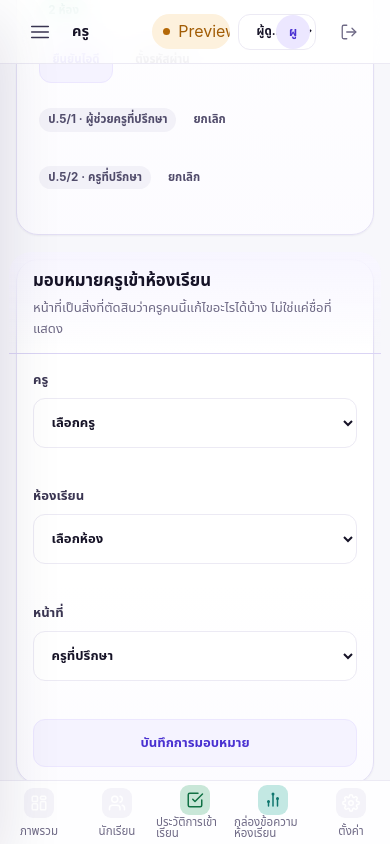
Scenario: assigning a teacher to several subjects at once › shows what the teacher already holds in the room being edited
The width and height of the screenshot is (390, 844).
(page scrolled)
Select "ครูสมฤทัย ปัญญาดี" in the dropdown labelled "ครู" at (195, 423), box left=33, top=398, right=357, bottom=448
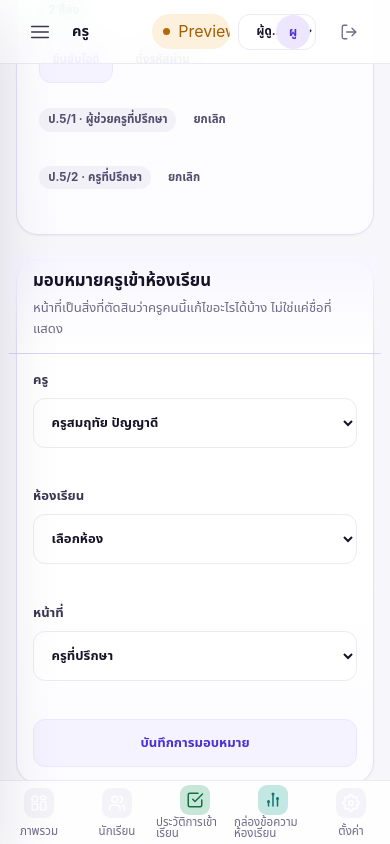
Select "ป.5/1" in the dropdown labelled "ห้องเรียน" at (195, 539), box left=33, top=514, right=357, bottom=564
(page scrolled)
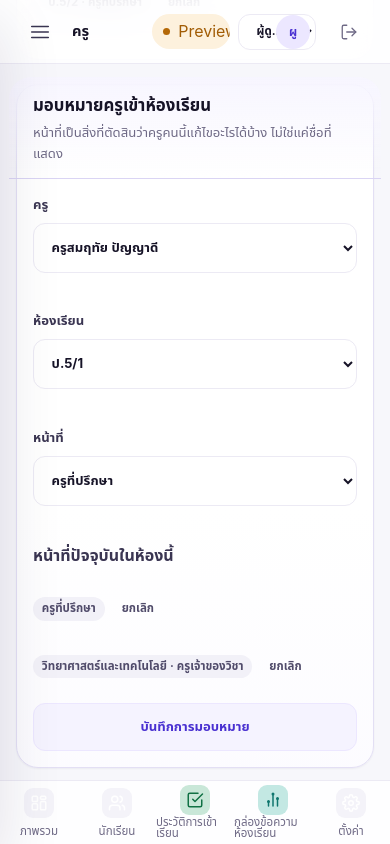
Check: the text "ครูที่ปรึกษา" is shown, box left=33, top=597, right=105, bottom=621
Check: the text "วิทยาศาสตร์และเทคโนโลยี · ครูเจ้าของวิชา" is shown, box left=33, top=655, right=252, bottom=678
